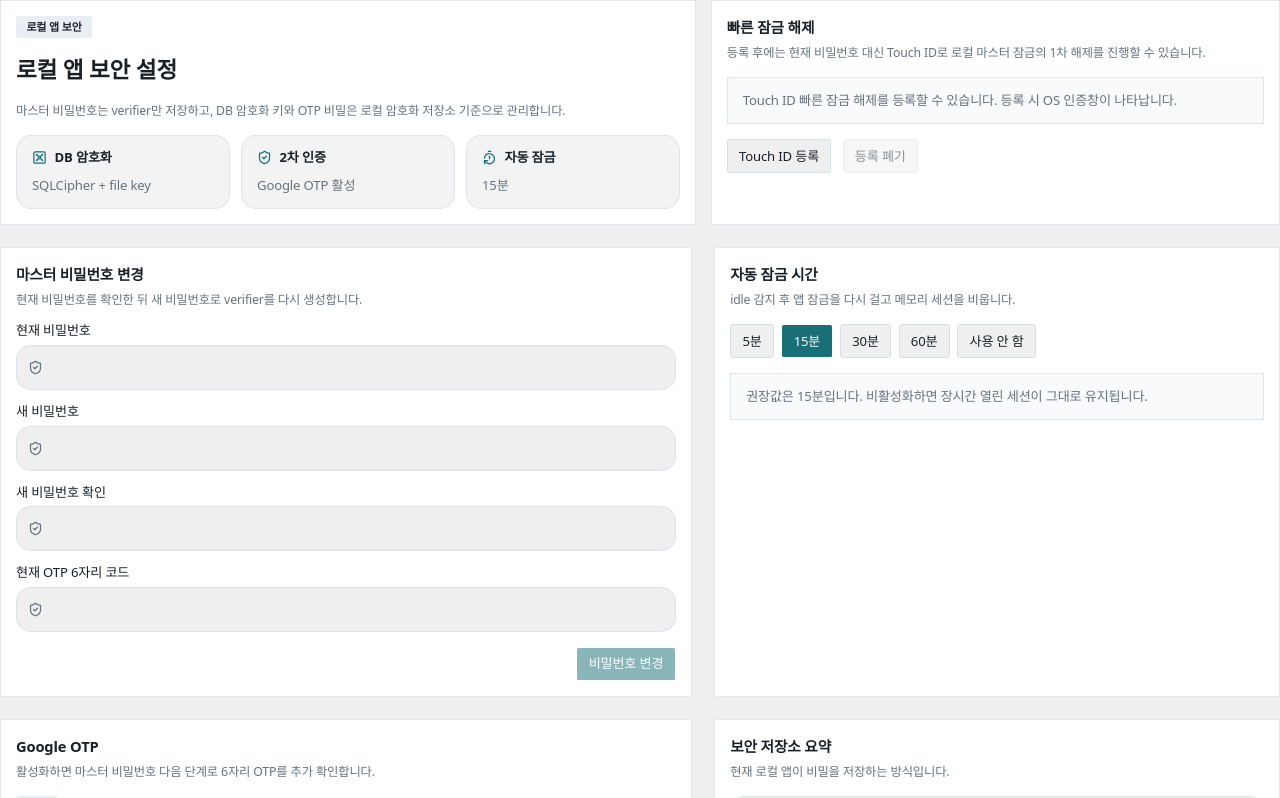
Test case: SecuritySettingsPage › renders split security sections and opens the idle-timeout step-up dialog
The image size is (1280, 798).
Check: the heading "로컬 앱 보안 설정" is shown, box x1=16 y1=54 x2=177 y2=85
Check: the heading "빠른 잠금 해제" is shown, box x1=727 y1=17 x2=814 y2=37
Click the button "5분". click: (752, 341)
box: x1=730 y1=324 x2=774 y2=358
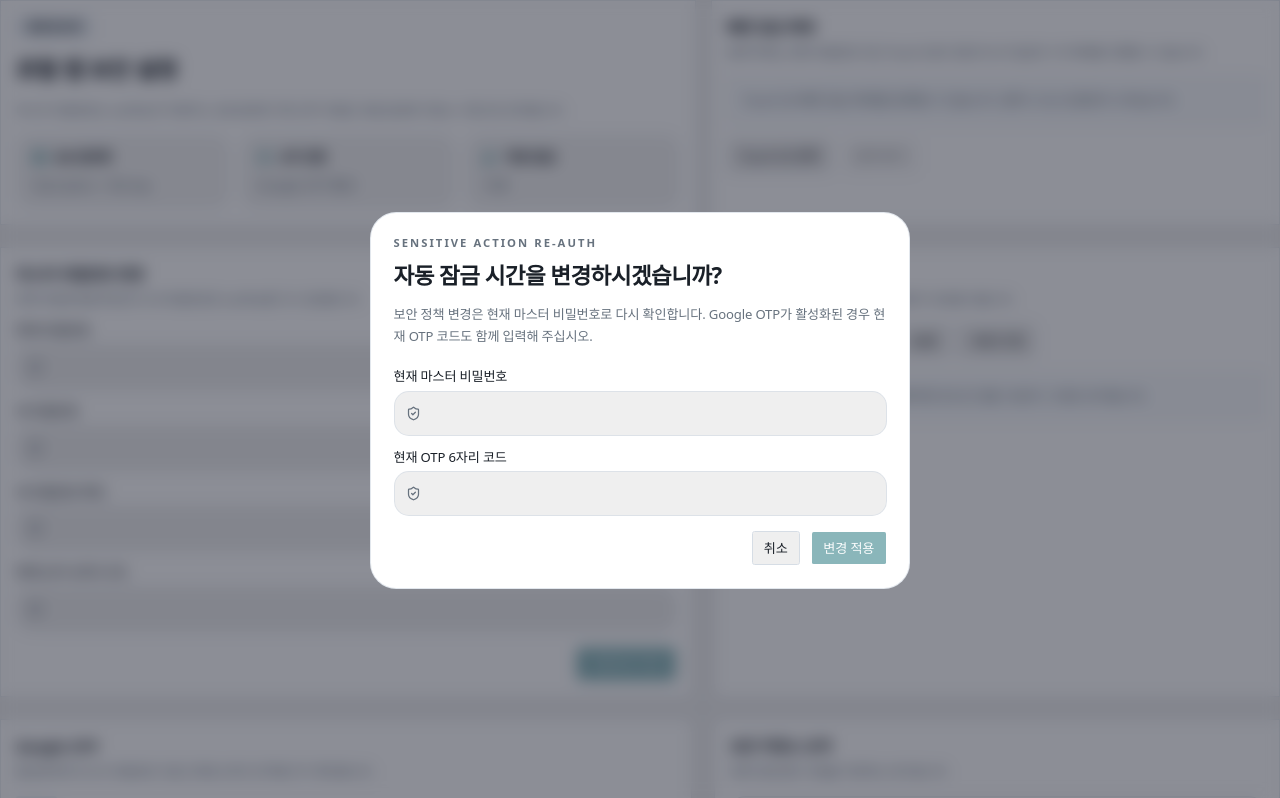
Check: the heading "자동 잠금 시간을 변경하시겠습니까?" is shown, box x1=394 y1=260 x2=722 y2=291
Check: the button "변경 적용" is disabled, box x1=811 y1=531 x2=886 y2=565
